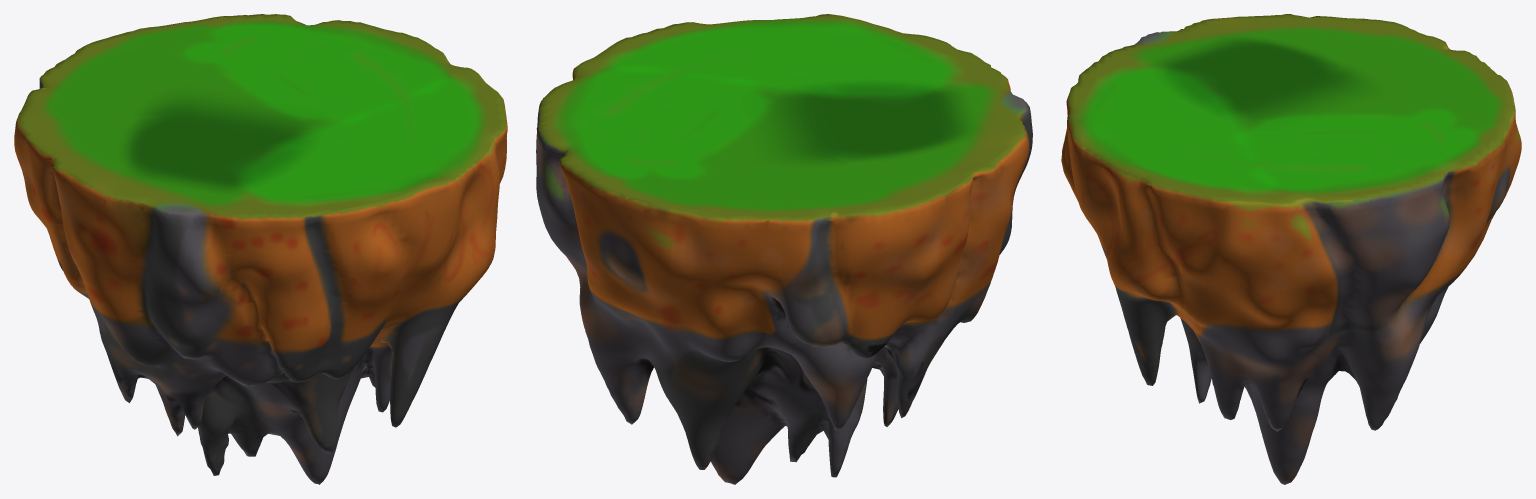
Rendered from Isla1.fbx.
3 views of the same model, side by side, from view 1: azimuth 30°, elevation 25°; view 2: azimuth 150°, elevation 25°; view 3: azimuth 270°, elevation 25° (orthographic). The views are drawn at different scales.
Visible parts, largest first — view 1: Isla1_LowPoliTrue; view 2: Isla1_LowPoliTrue; view 3: Isla1_LowPoliTrue.
Part boxes in pixels (box(x1,y1,x2,y2)): Isla1_LowPoliTrue: box(14, 14, 507, 484); Isla1_LowPoliTrue: box(536, 14, 1032, 484); Isla1_LowPoliTrue: box(1061, 14, 1521, 484).
Bounding box in the file's own units: 4129 × 3513 × 4049.
1 material, 1 textured.
